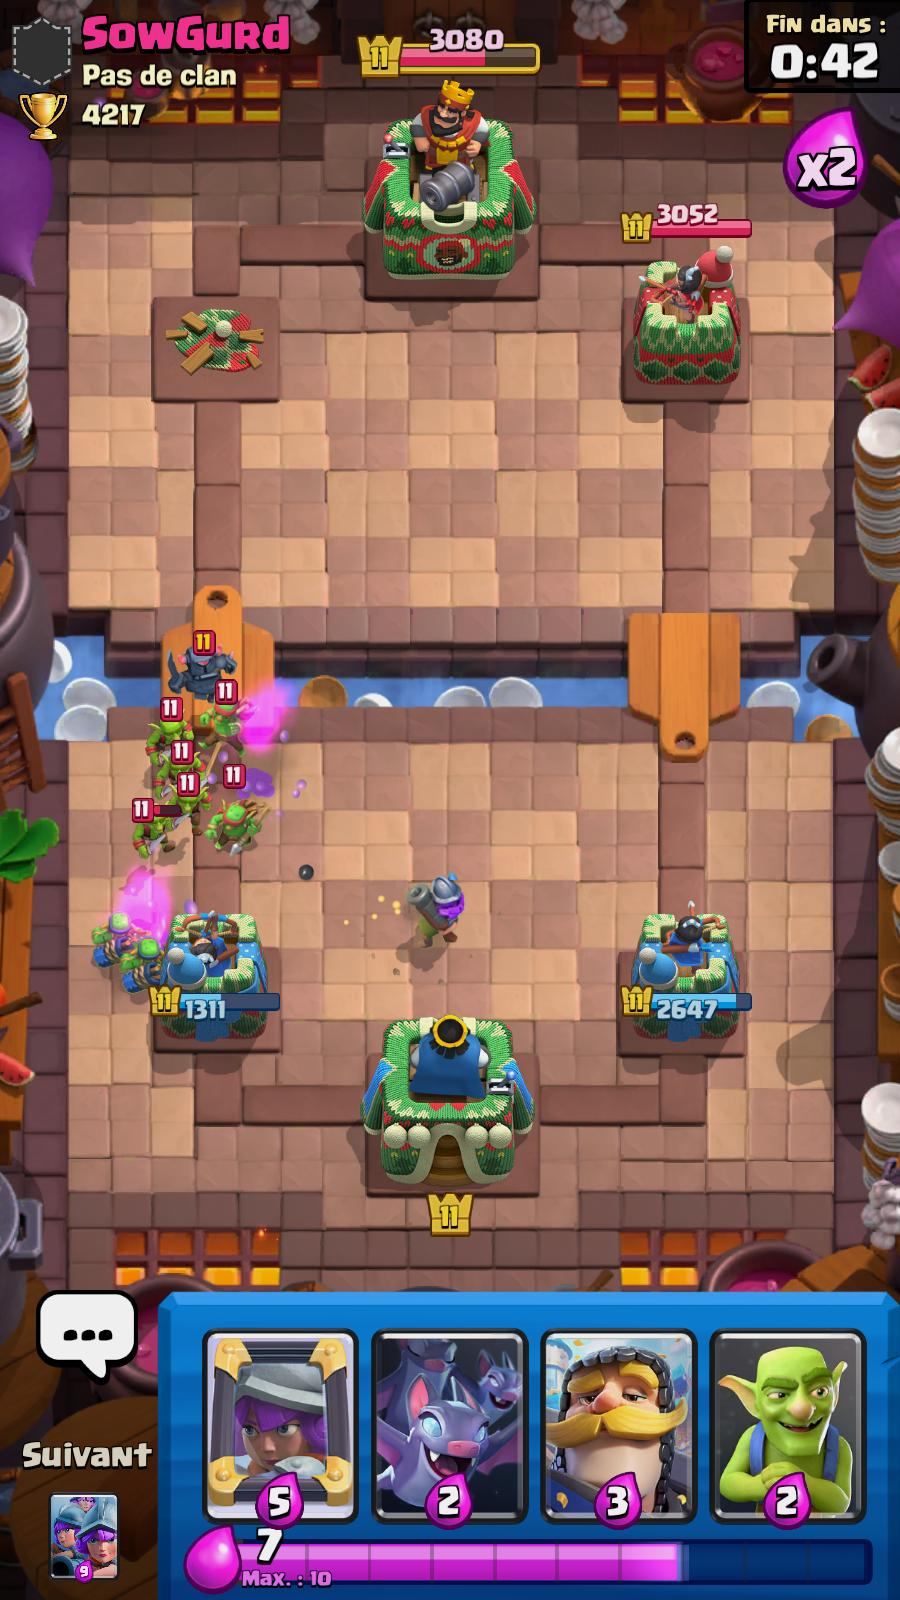gobelin: (144, 696, 196, 756), (136, 799, 179, 864), (165, 774, 209, 831), (156, 743, 203, 785)
gobelin_lances: (84, 909, 141, 969), (213, 797, 269, 853), (201, 696, 257, 751), (118, 935, 170, 991)
mini_PEKKA: (168, 630, 232, 704)
mousquetaire: (403, 870, 466, 952)
